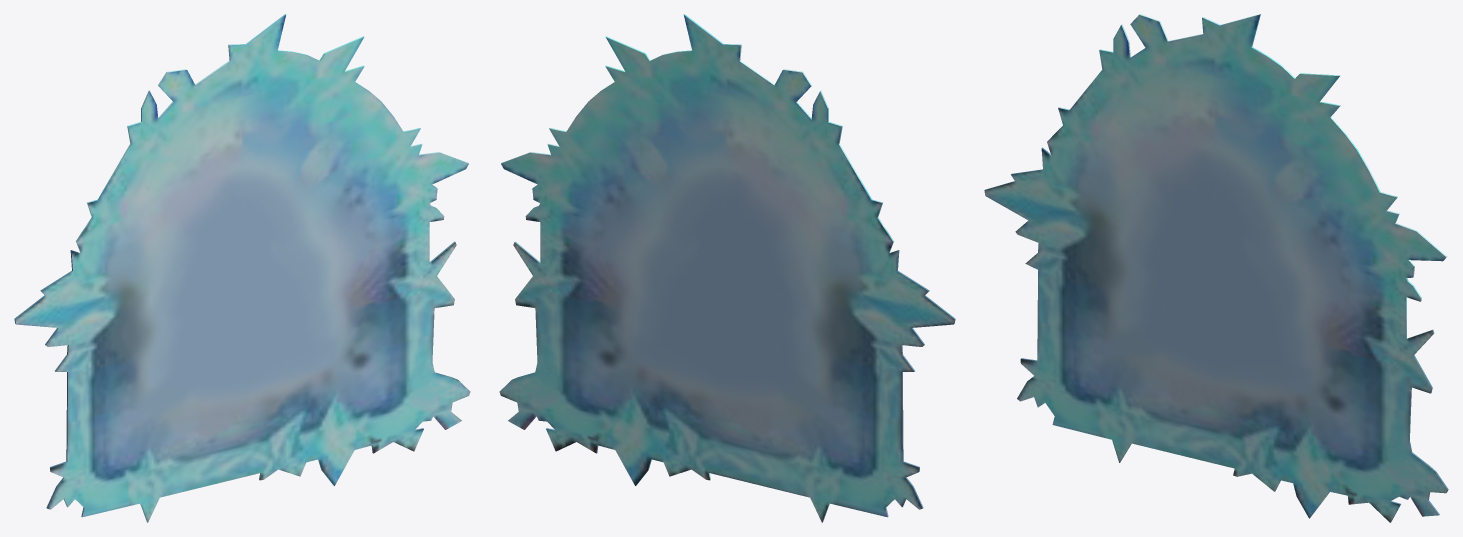
File: Frozen.glb
3 views of the same model, side by side, from view 1: azimuth 30°, elevation 25°; view 2: azimuth 150°, elevation 25°; view 3: azimuth 330°, elevation 25° (orthographic).
Parts seen in each view (by area): view 1: Circle.004; view 2: Circle.004; view 3: Circle.004.
Boxes of the visible parts, x1=… form: Circle.004: x1=14, y1=14, x2=470, y2=522; Circle.004: x1=499, y1=14, x2=955, y2=522; Circle.004: x1=984, y1=14, x2=1448, y2=522.
Bounding box in the file's own units: 5.45 × 5.53 × 0.02.
1 material, 1 textured.
